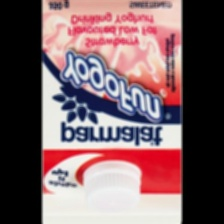carton: (38, 0, 182, 219)
